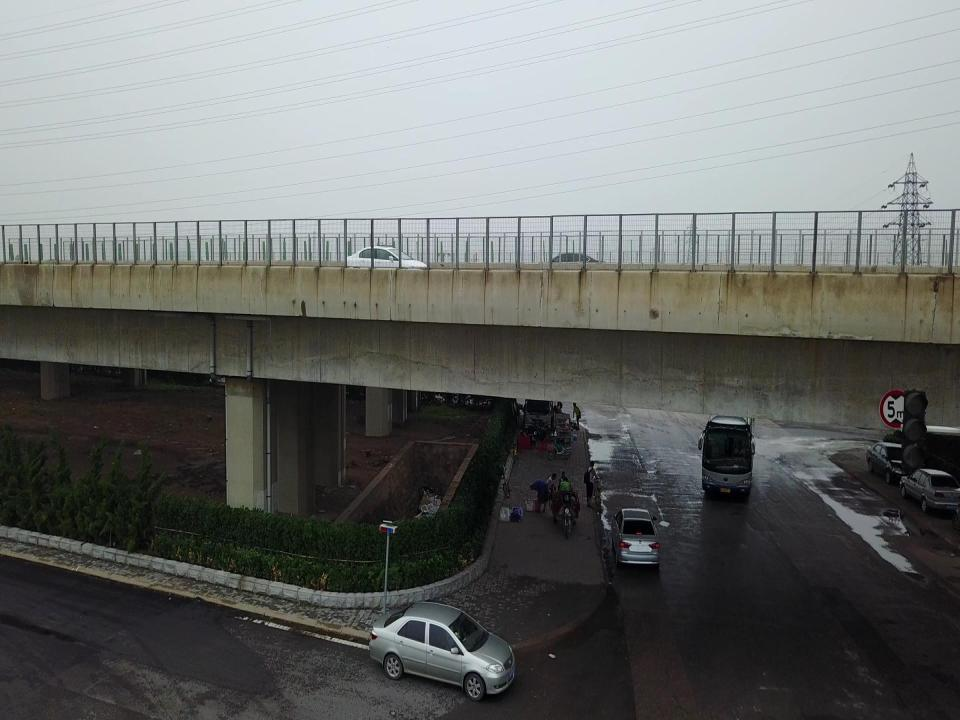bus: (701, 415, 753, 500)
car: (368, 598, 514, 697), (611, 508, 659, 567), (901, 467, 960, 514), (867, 435, 917, 482)
truck: (523, 395, 553, 432)
